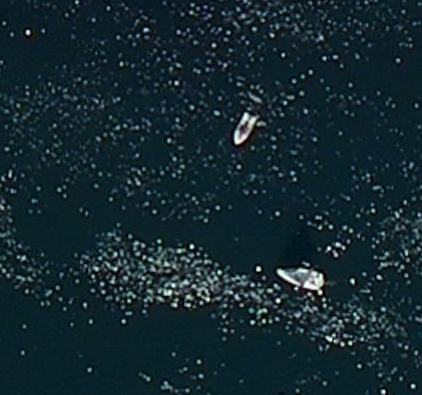ship: (270, 259, 330, 300), (228, 109, 263, 148)
